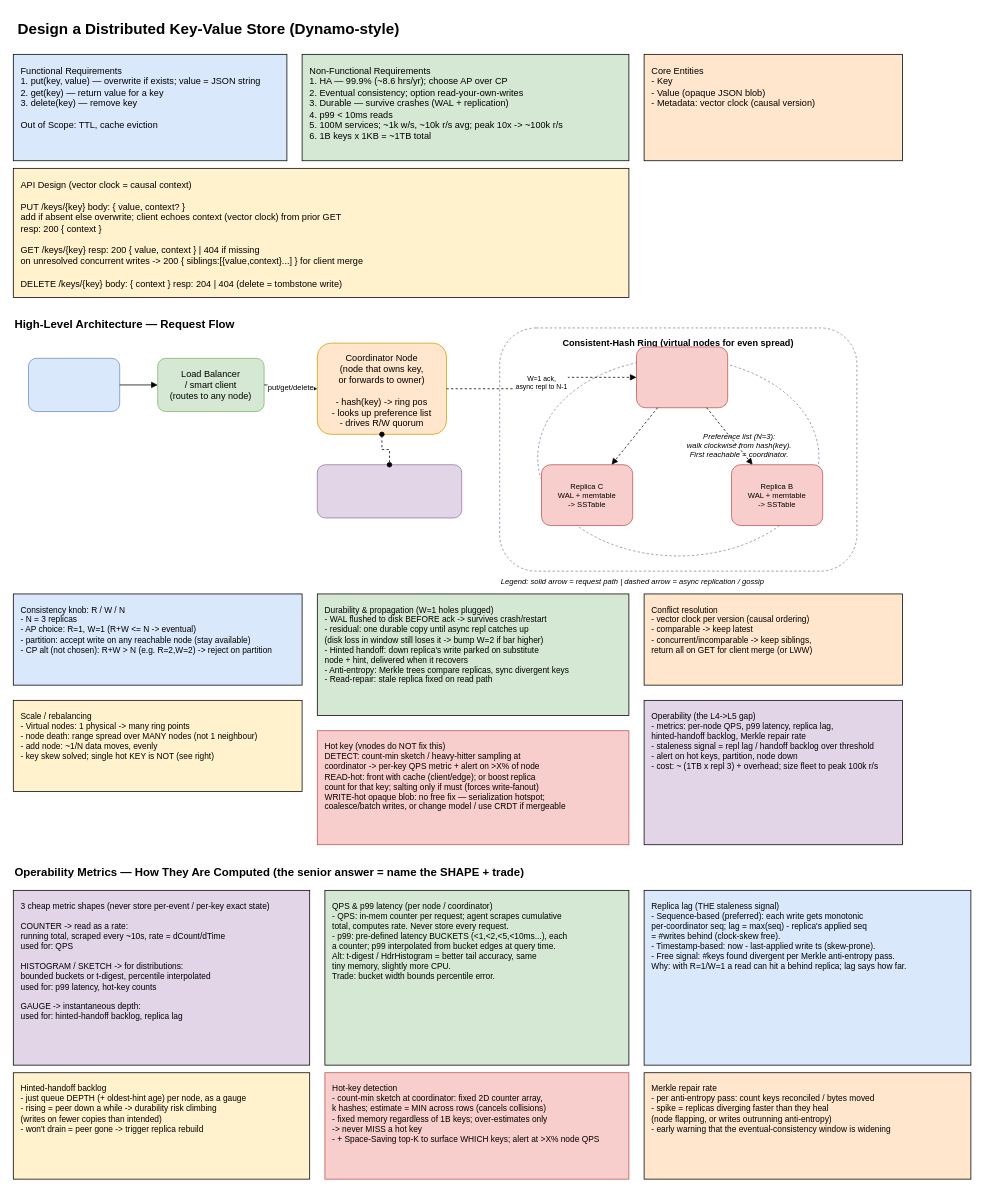
Some shapes in this 984 by 1192 pixel diagram are drawn without their labels. The centre of each missing label's shape, as x and y in pixels:
Clients (100M services): the point at 74,385
Gossip protocol (membership + ring topology + preference lists, on every node): the point at 389,491
Replica A (coordinator) WAL + memtable -> SSTable: the point at 682,377
